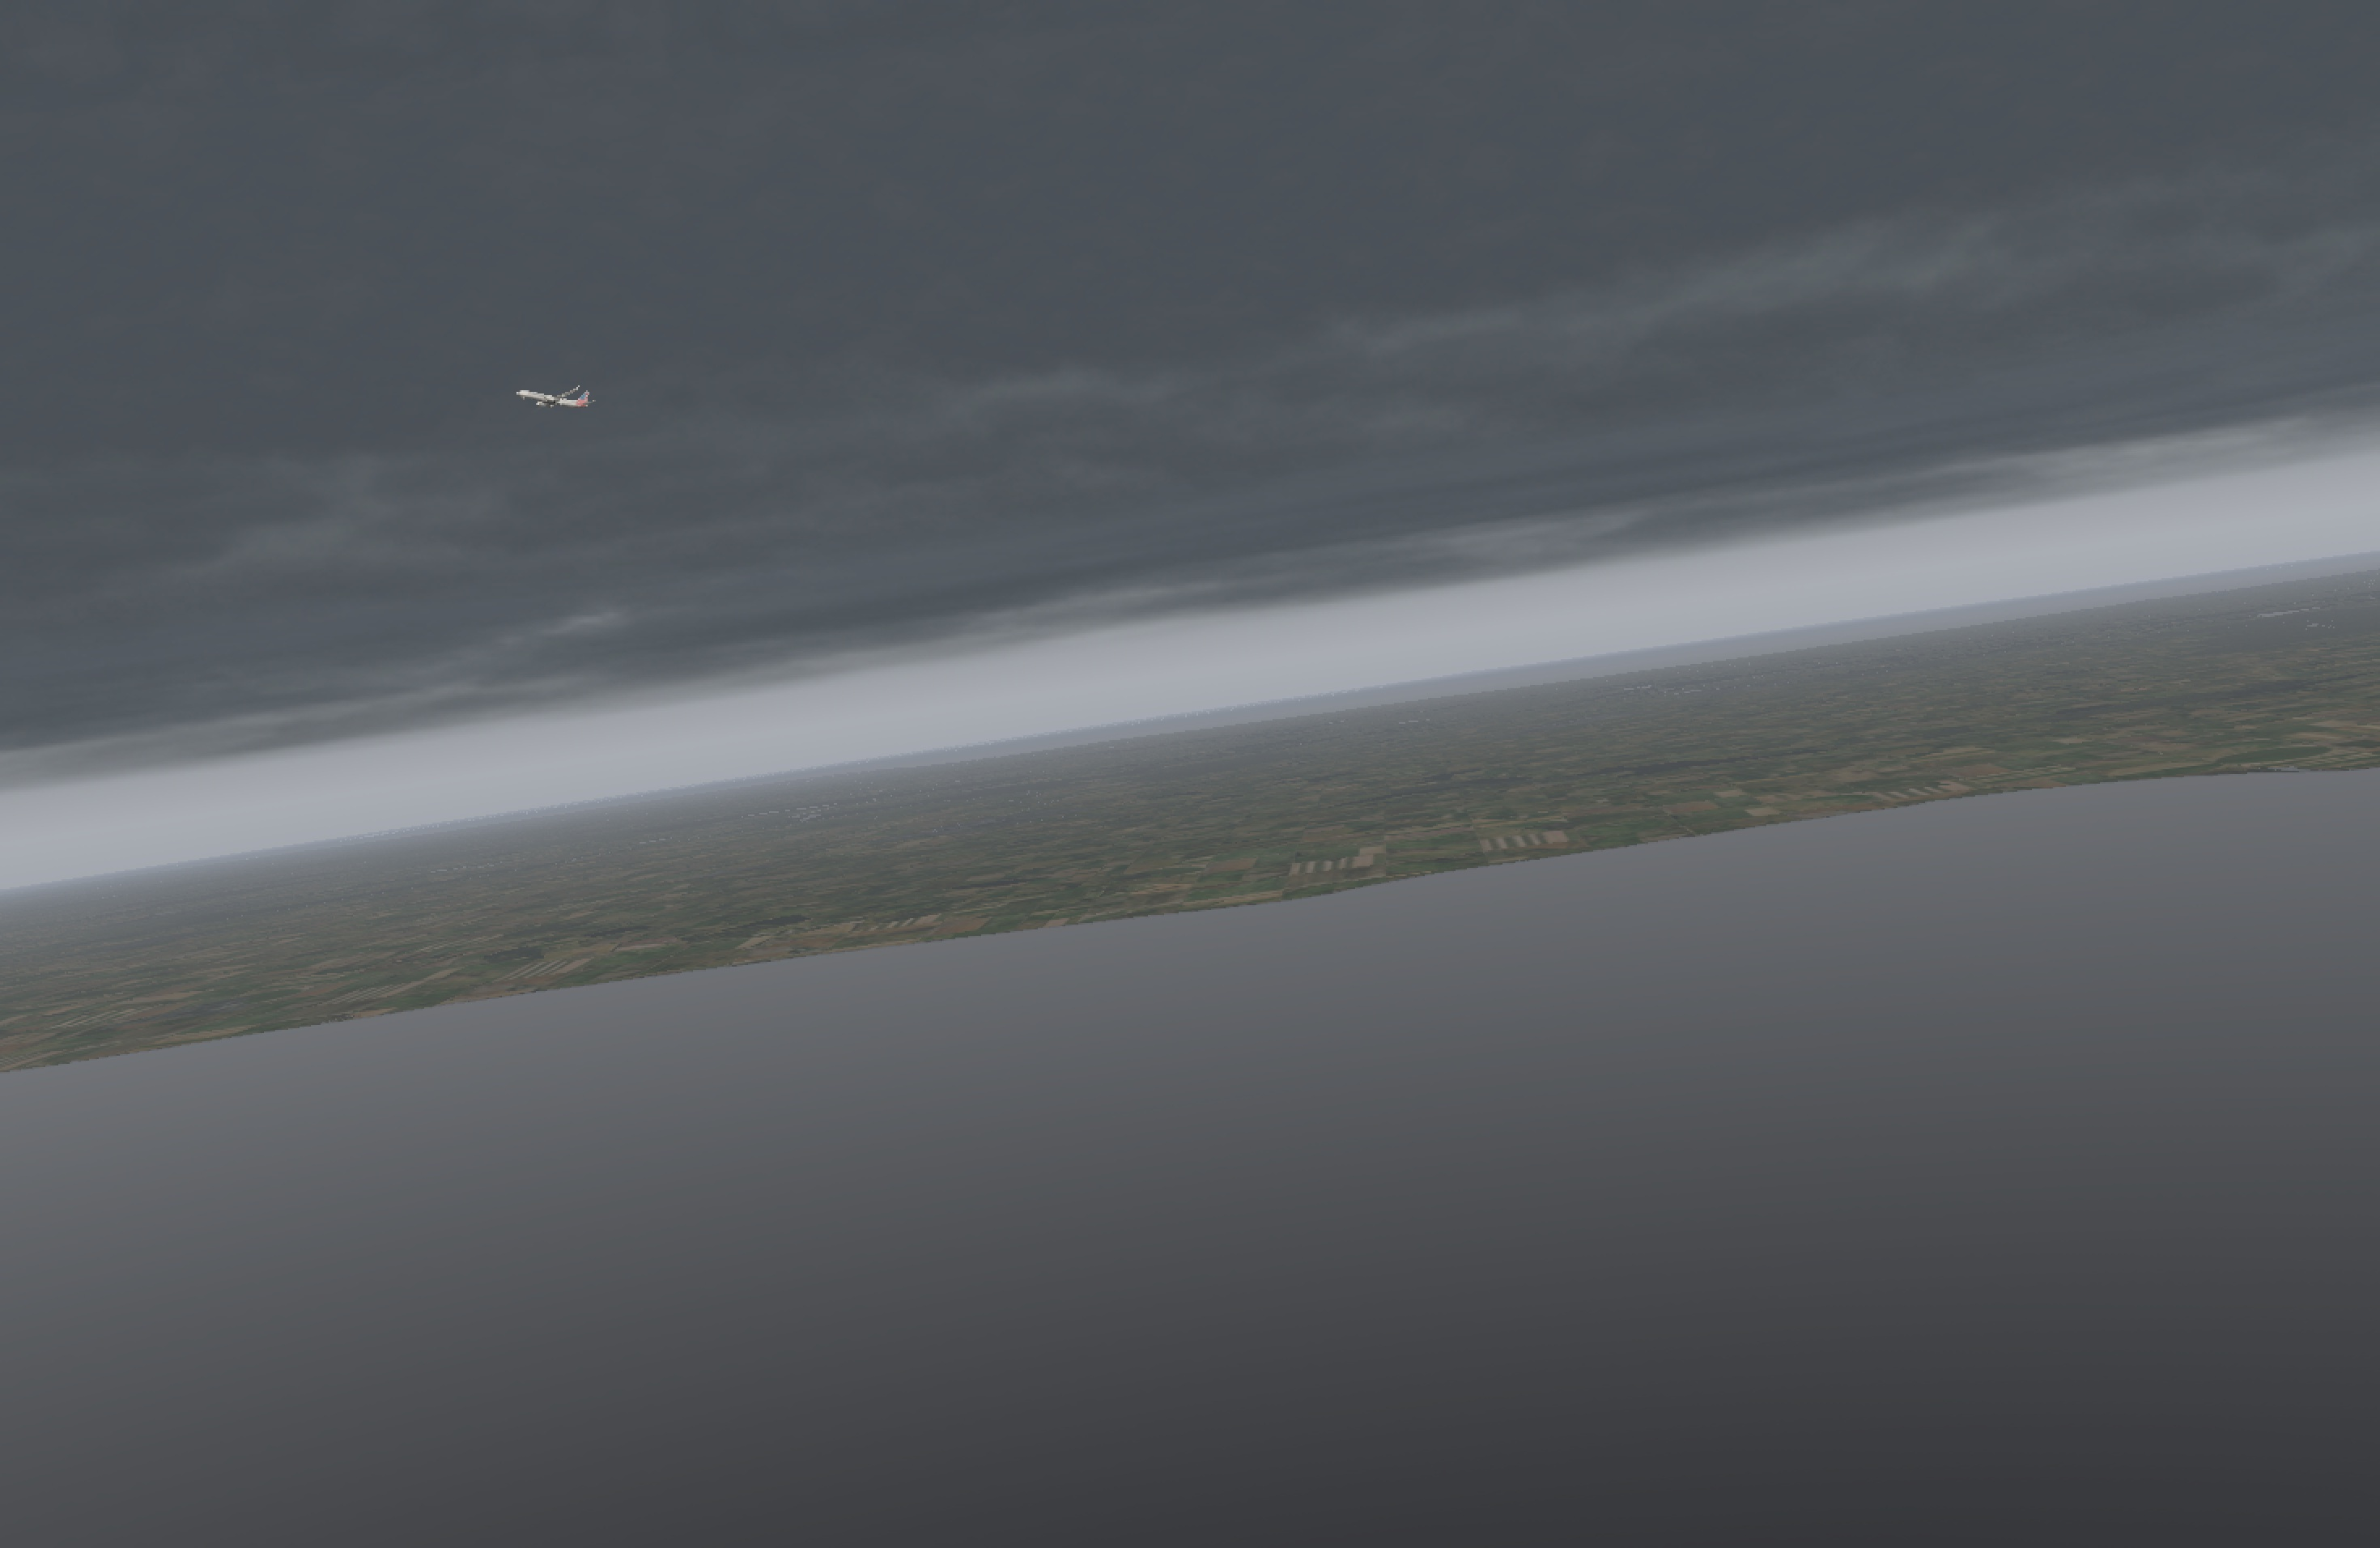aircraft: (513, 387, 586, 415)
